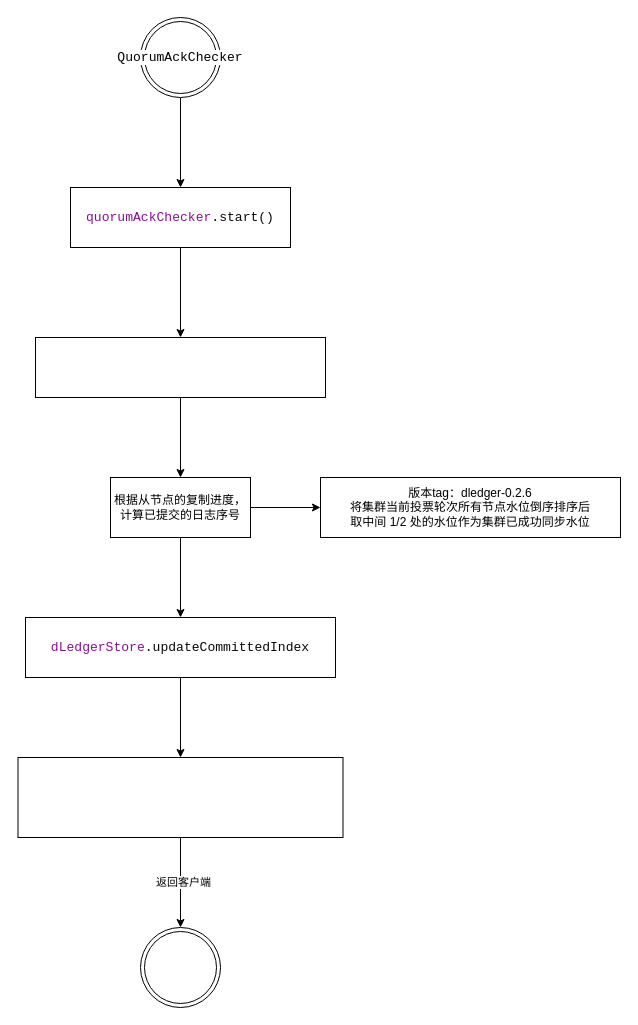
This 638x1025 diagram has some shape labels left out. The centre of each missing label's shape, as x and y in pixels:
"DLedgerEntryPusher.QuorumAckChecker#doWork" goes at pixel 180 367.
"pendingAppendResponsesByTerm 根据本次集群水位与上一次的集群水位 将在两者之间的未完成日志append请求设置为请求完成" goes at pixel 180 797.
